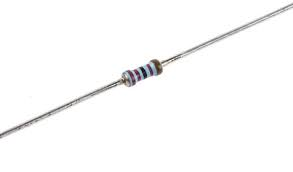resistor: (106, 48, 171, 98)
